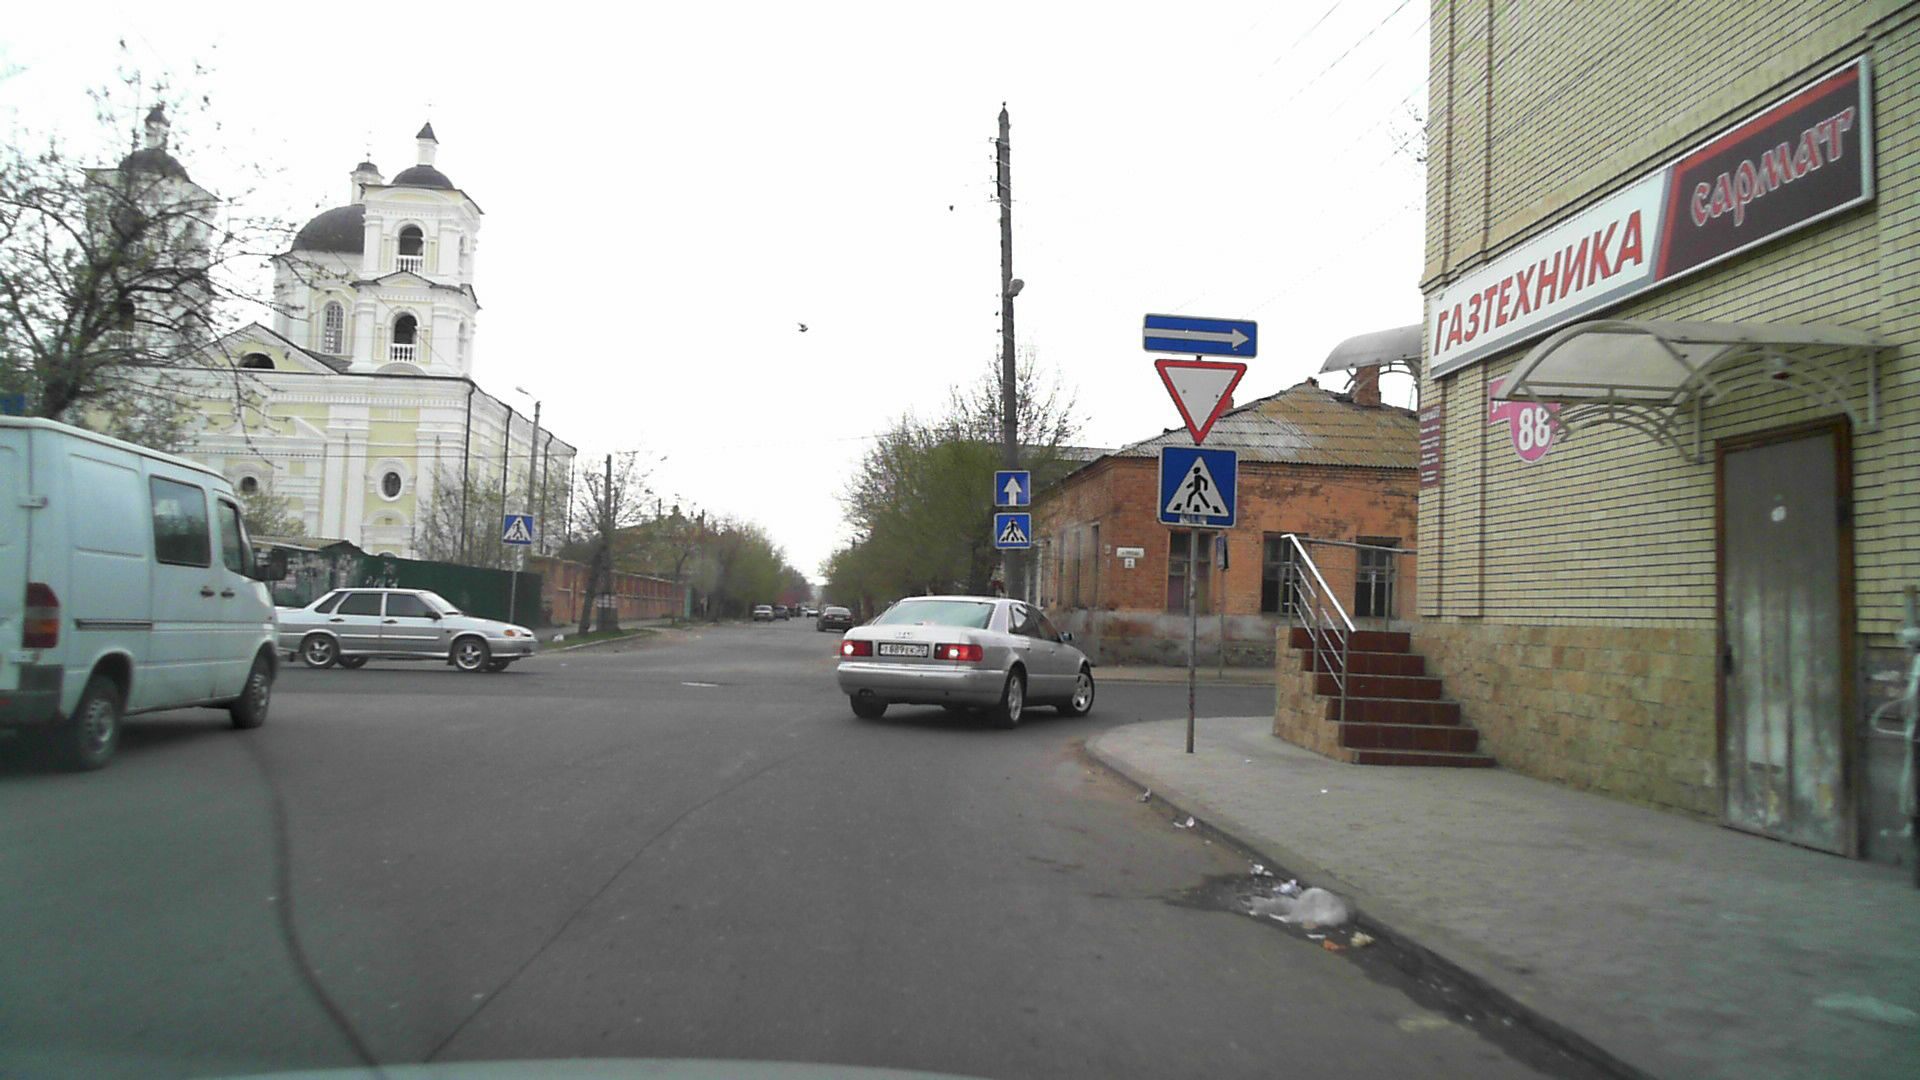One-Way Traffic: (1143, 314, 1257, 357)
Pedestrian Crossing: (1162, 447, 1236, 524), (996, 514, 1030, 549), (502, 516, 533, 545)
